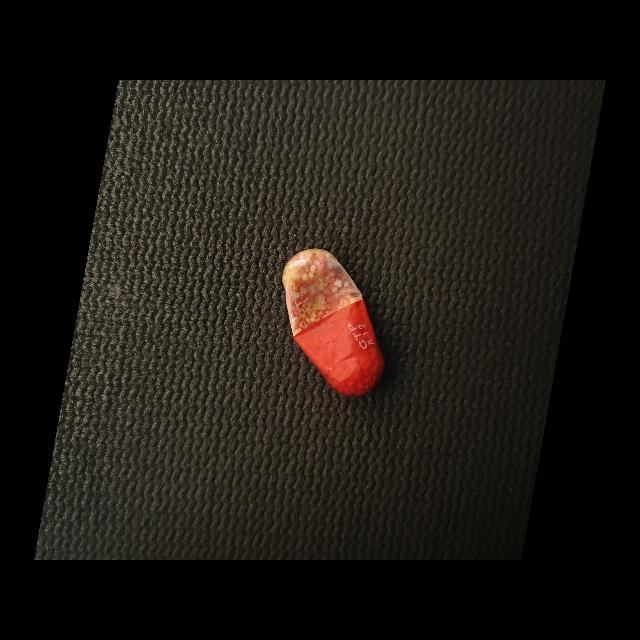Defective Capsule: (282, 249, 385, 396)
